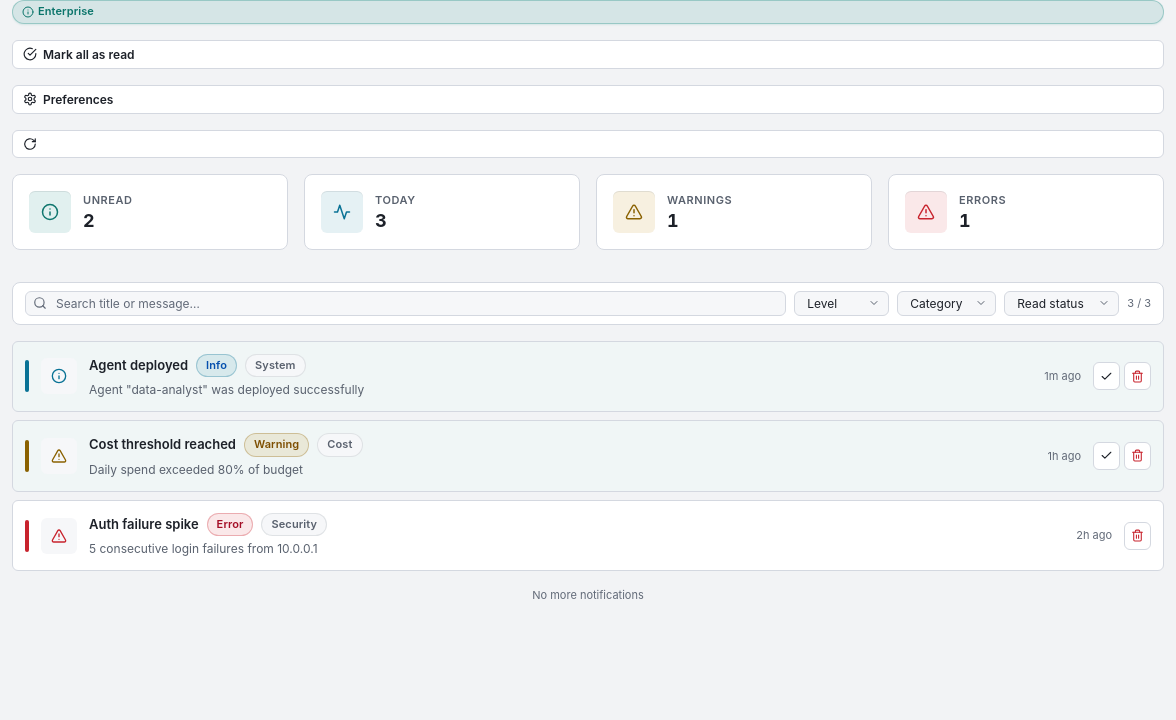
Test: Notifications.vue › filters notifications by level select
Expected: the number of buttons with class "notif-row" is 3, x1=12 y1=341 x2=1164 y2=412; x1=12 y1=420 x2=1164 y2=492; x1=12 y1=500 x2=1164 y2=571
Select "Warning" in the dropdown named "Level" at (842, 303), box x1=794 y1=291 x2=889 y2=316
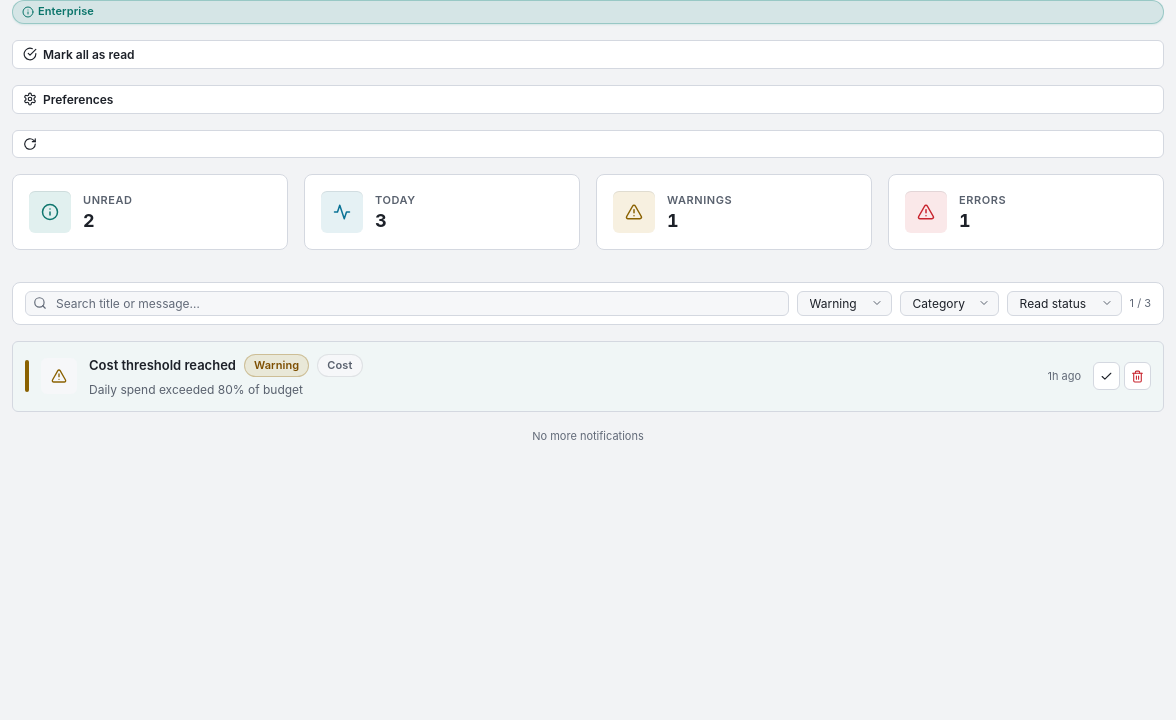
Expected: the text "Cost threshold reached" is shown, x1=89 y1=356 x2=236 y2=375
Expected: the number of buttons with class "notif-row" is 1, x1=12 y1=341 x2=1164 y2=412
